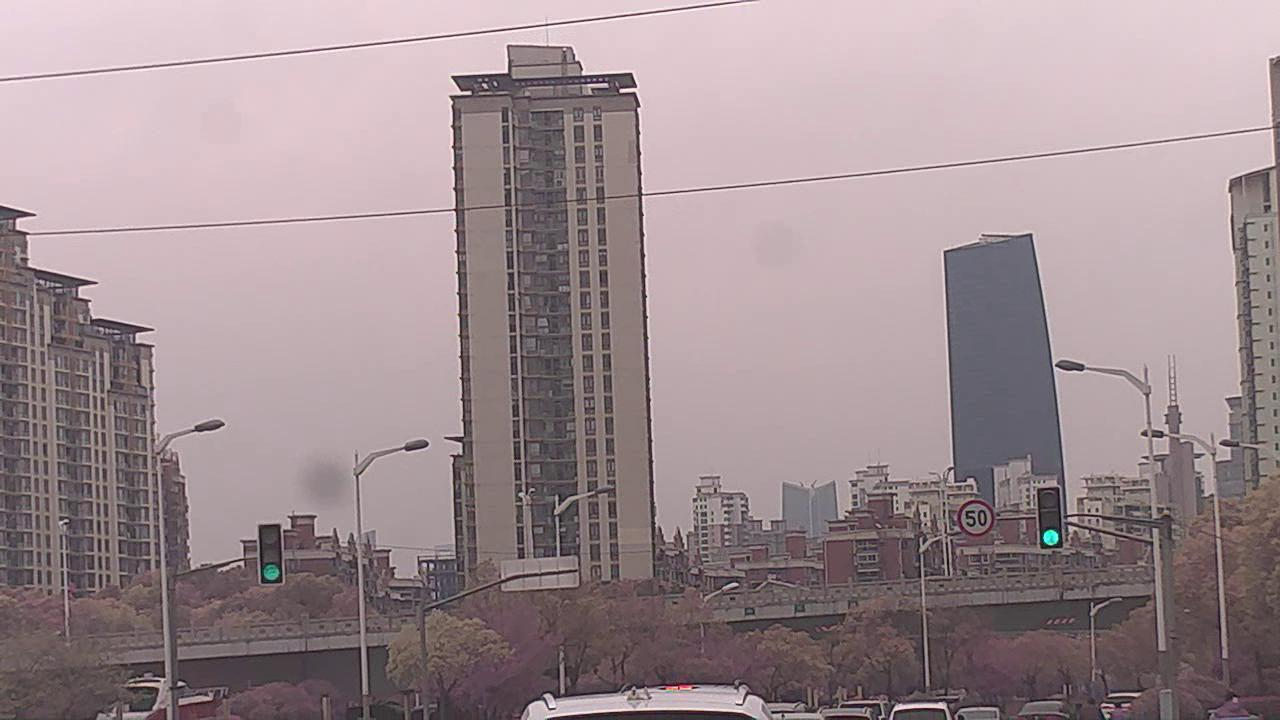traffic_light: (258, 521, 286, 588), (1037, 488, 1065, 547)
